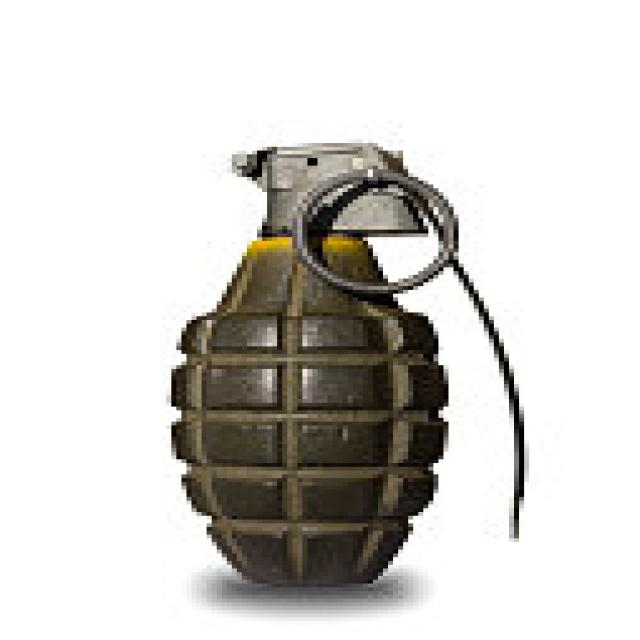grenade: (162, 128, 549, 603)
